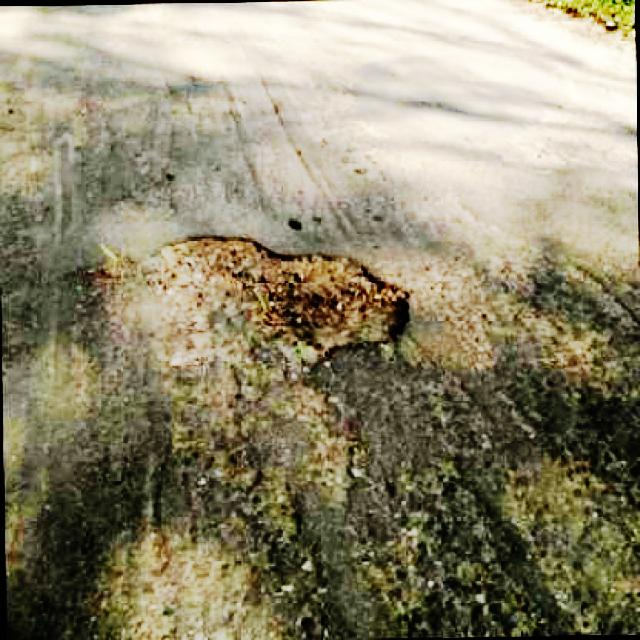pothole: (78, 228, 417, 364)
